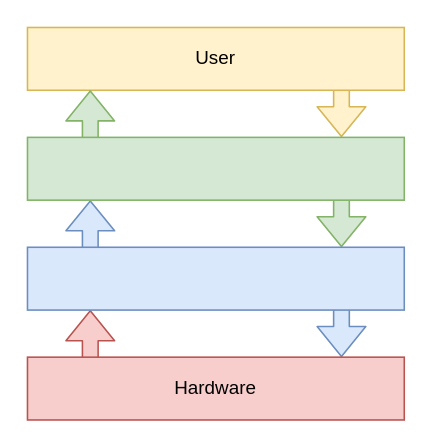
Image size: 432x447. Some labels were removed from this diagram. The box of each missing label's shape, as (x1, y1, x2, y2) in pixels:
Application: (26, 136, 404, 200)
Operating system: (26, 246, 404, 310)
